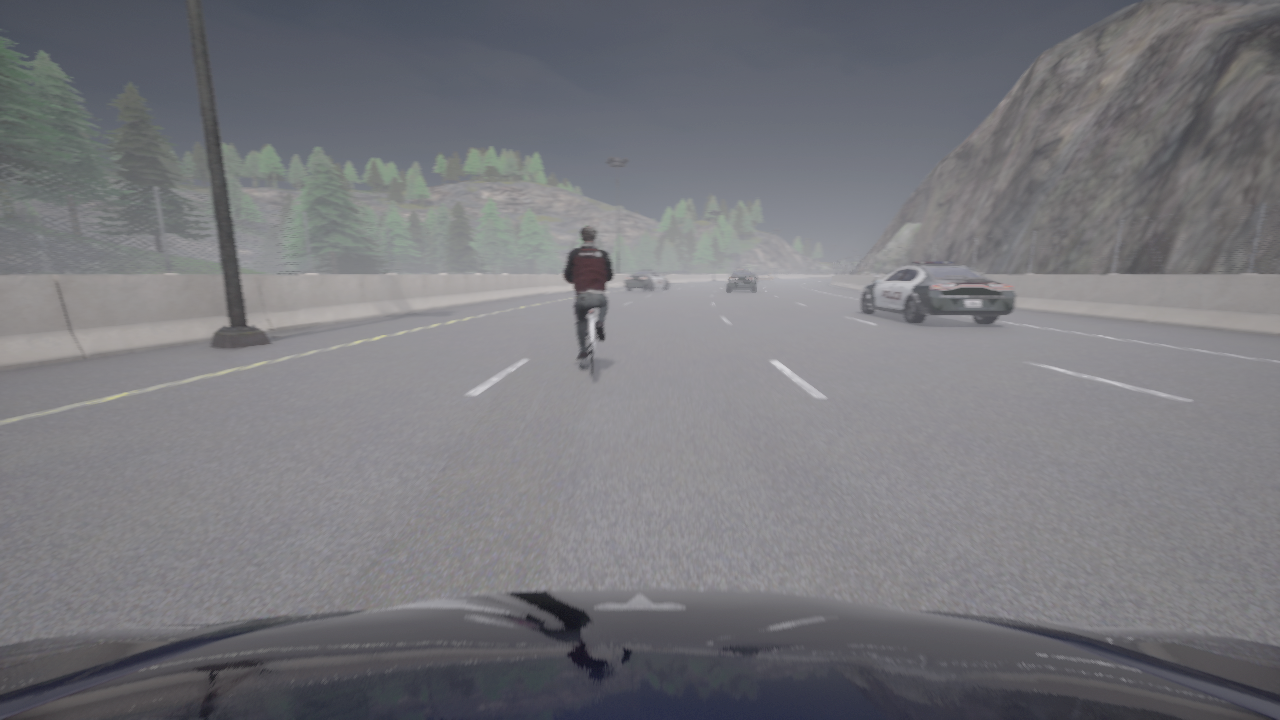cyclist: (0, 588, 1279, 719), (860, 261, 1016, 324), (580, 308, 597, 378), (623, 269, 669, 291), (727, 269, 756, 291), (757, 271, 773, 282), (752, 272, 759, 278)
